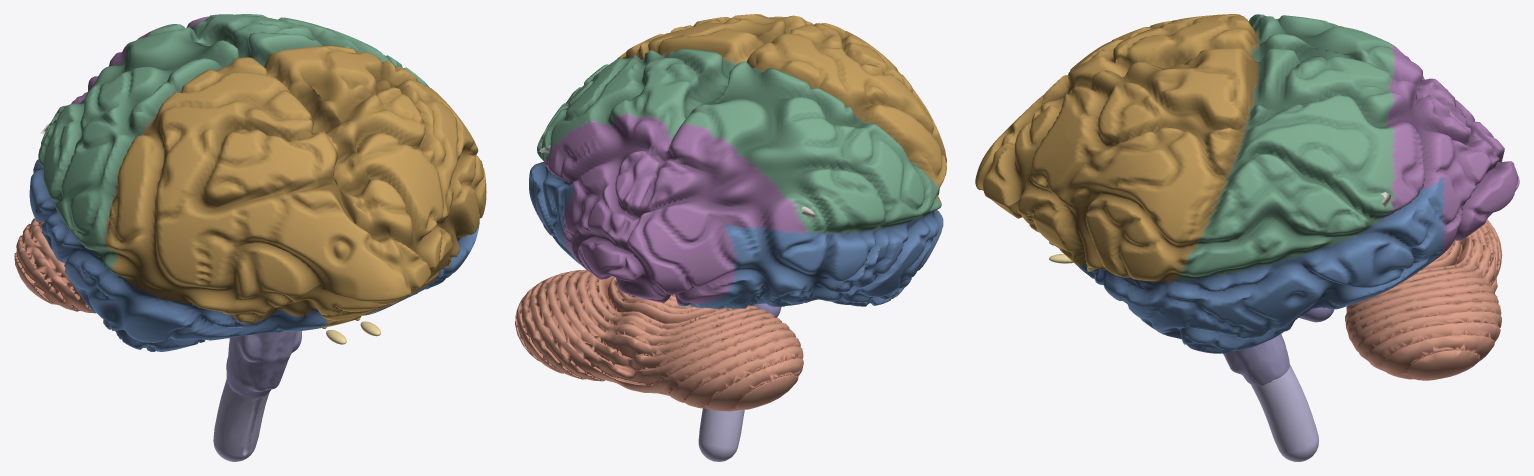
Rendered from medicine_brain.glb.
3 renders of one model, left to right at view 1: azimuth 30°, elevation 25°; view 2: azimuth 150°, elevation 25°; view 3: azimuth 270°, elevation 25°, orthographic. The views are drawn at different scales.
Visible parts, largest first — view 1: frontal_geo, parietal_geo, temporal_geo, brain_medulla_geo, cerebellum_geo, brain_spinal_cord_geo, occipital_geo; view 2: parietal_geo, occipital_geo, cerebellum_geo, temporal_geo, frontal_geo, brain_spinal_cord_geo; view 3: frontal_geo, parietal_geo, temporal_geo, cerebellum_geo, occipital_geo, brain_spinal_cord_geo, brain_medulla_geo.
Boxes of the visible parts, box(x1,y1,x2,y2) form: frontal_geo: box(103, 45, 486, 328); parietal_geo: box(38, 14, 429, 281); temporal_geo: box(29, 159, 479, 351); brain_medulla_geo: box(226, 331, 301, 399); cerebellum_geo: box(14, 218, 95, 313); brain_spinal_cord_geo: box(213, 379, 269, 461); occipital_geo: box(63, 16, 208, 106); parietal_geo: box(537, 49, 941, 234); occipital_geo: box(544, 112, 808, 304); cerebellum_geo: box(515, 269, 803, 411); temporal_geo: box(529, 162, 943, 309); frontal_geo: box(617, 14, 946, 203); brain_spinal_cord_geo: box(698, 408, 744, 461); frontal_geo: box(975, 14, 1260, 282); parietal_geo: box(1175, 14, 1395, 281); temporal_geo: box(1077, 178, 1445, 353); cerebellum_geo: box(1345, 219, 1502, 380); occipital_geo: box(1382, 45, 1519, 253); brain_spinal_cord_geo: box(1251, 365, 1318, 461); brain_medulla_geo: box(1223, 334, 1289, 385).
Size of what is drawn, in the model's own units: 1.36 by 1.47 by 1.73.
